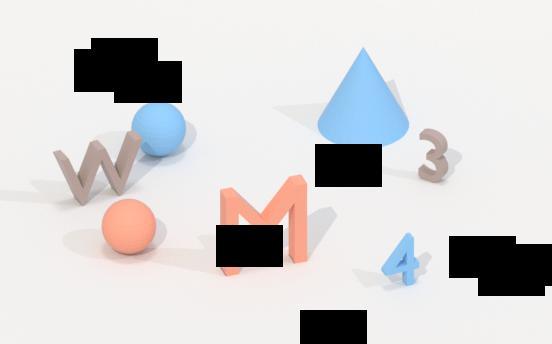3: (417, 126, 450, 186)
4: (379, 228, 421, 289)
M-hoa: (215, 170, 313, 281)
cau: (130, 98, 189, 160), (101, 195, 158, 258)
non: (313, 42, 412, 152)
w: (49, 127, 146, 211)
